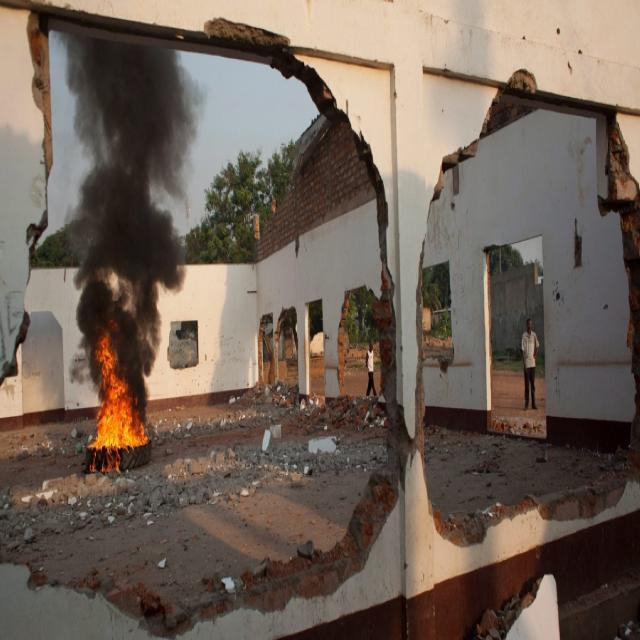Fire: (93, 389, 144, 452)
Smoke: (80, 45, 172, 328)
